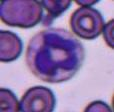N: (25, 28, 85, 82)
